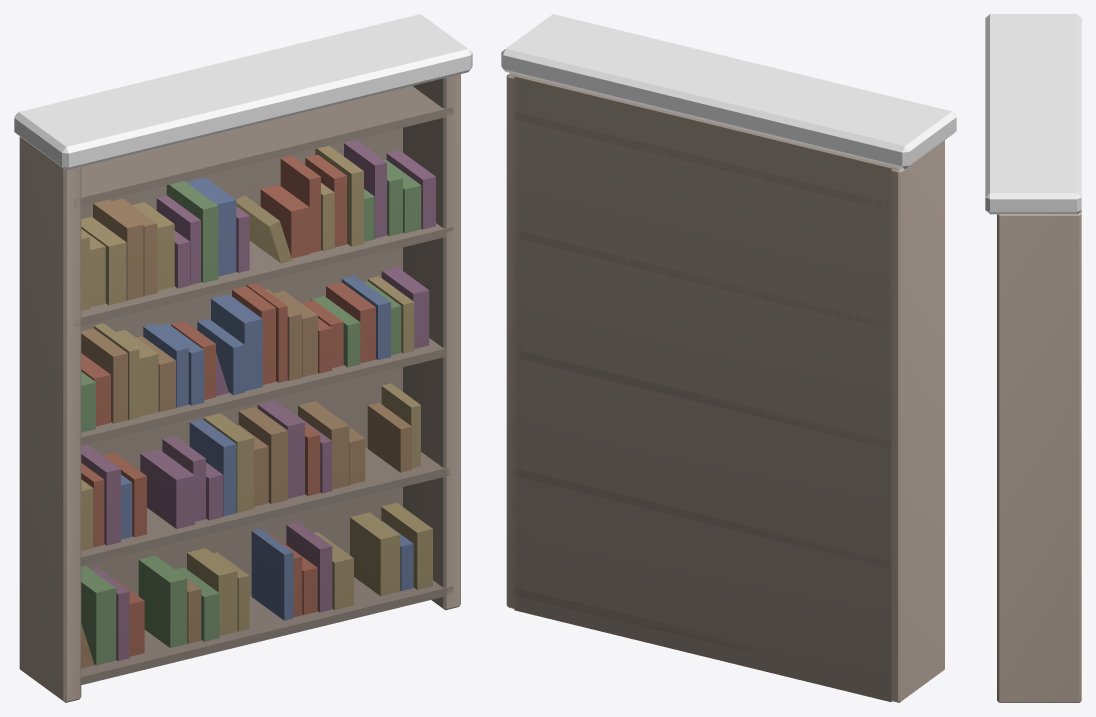
The model's file is bookshelf_b.glb.
3 renders of one model, left to right at view 1: azimuth 30°, elevation 25°; view 2: azimuth 150°, elevation 25°; view 3: azimuth 270°, elevation 25°, orthographic. The views are drawn at different scales.
Visible parts, largest first — view 1: book; view 2: book; view 3: book.
Boxes of the visible parts, bbox=[...] form: book: bbox=[14, 14, 472, 702]; book: bbox=[501, 14, 956, 702]; book: bbox=[985, 14, 1081, 702].
Size of the model in its own units: 1.84 by 2.4 by 0.41.
